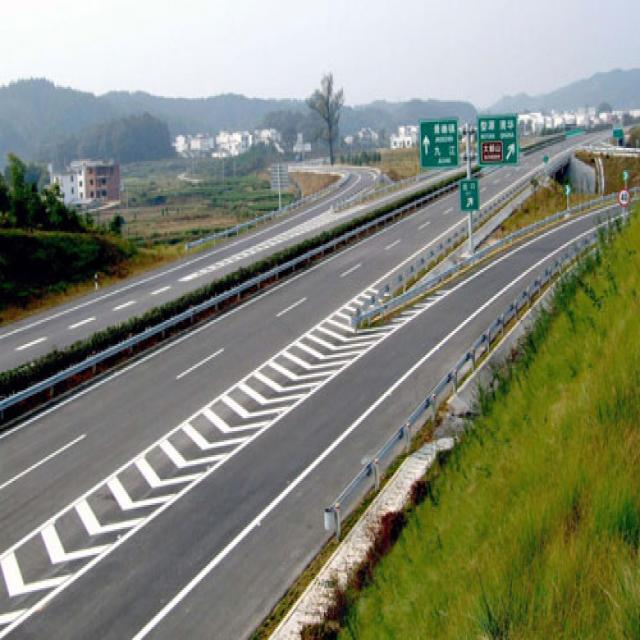point: (580, 109, 619, 149), (280, 144, 314, 183), (602, 181, 632, 221)
